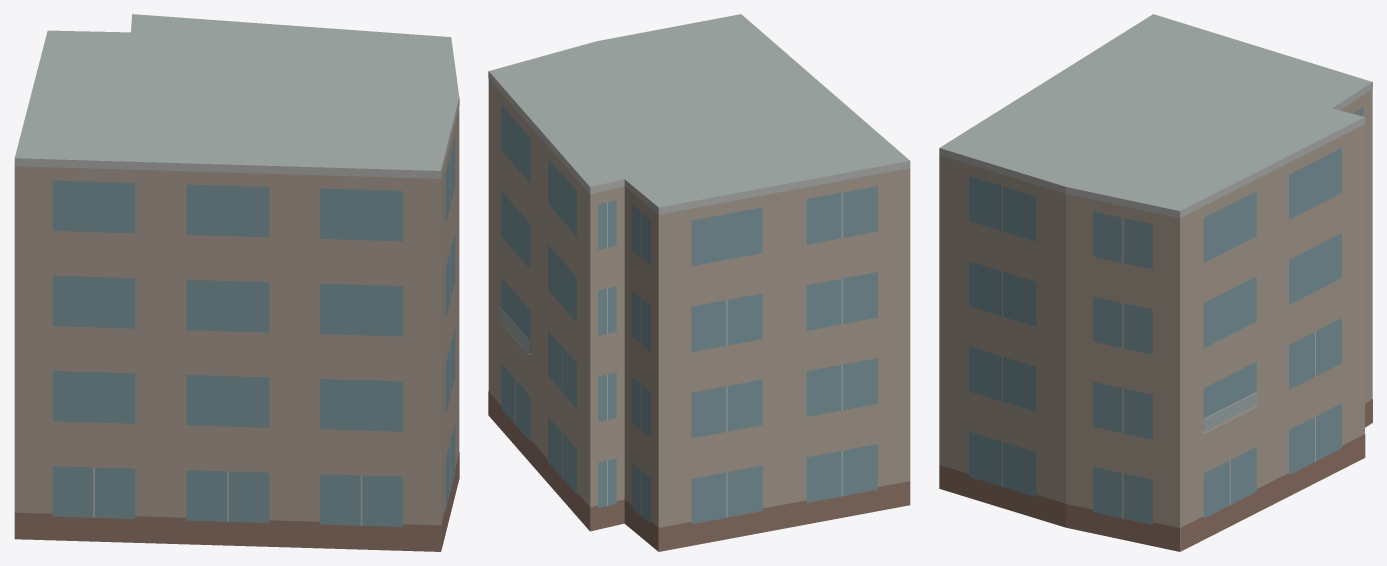
File: survey-upis-32847318.glb
3 views of the same model, side by side, from view 1: azimuth 30°, elevation 25°; view 2: azimuth 150°, elevation 25°; view 3: azimuth 270°, elevation 25° (orthographic). The views are drawn at different scales.
Parts seen in each view (by area): view 1: survey-upis-32847318.tmp; view 2: survey-upis-32847318.tmp; view 3: survey-upis-32847318.tmp.
Part boxes in pixels (<box>): survey-upis-32847318.tmp: <box>14,14,459,551</box>; survey-upis-32847318.tmp: <box>488,14,910,551</box>; survey-upis-32847318.tmp: <box>939,14,1372,551</box>.
Bounding box in the file's own units: 14.53 × 11.7 × 13.5.
